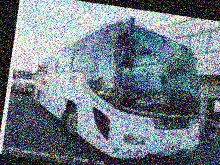bus: (23, 3, 216, 165)
